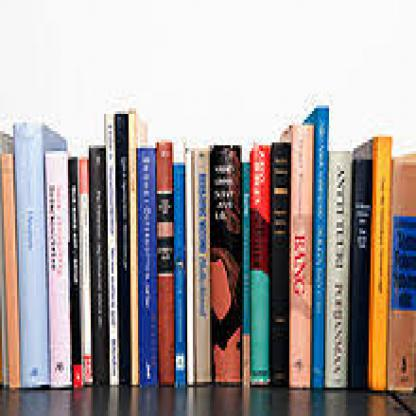paper: (12, 119, 46, 388), (278, 122, 308, 390), (206, 140, 238, 384), (42, 146, 68, 390), (390, 154, 414, 393), (246, 142, 268, 385), (327, 151, 348, 390), (87, 142, 106, 385), (136, 146, 155, 388), (189, 145, 208, 385), (0, 148, 19, 385), (114, 111, 130, 388), (268, 140, 286, 384), (102, 108, 117, 388), (369, 134, 384, 393), (155, 140, 170, 388), (312, 105, 325, 388), (125, 108, 138, 385), (352, 154, 367, 390), (66, 154, 80, 390), (76, 156, 89, 388), (172, 160, 185, 384), (181, 140, 193, 382), (238, 157, 250, 382)
